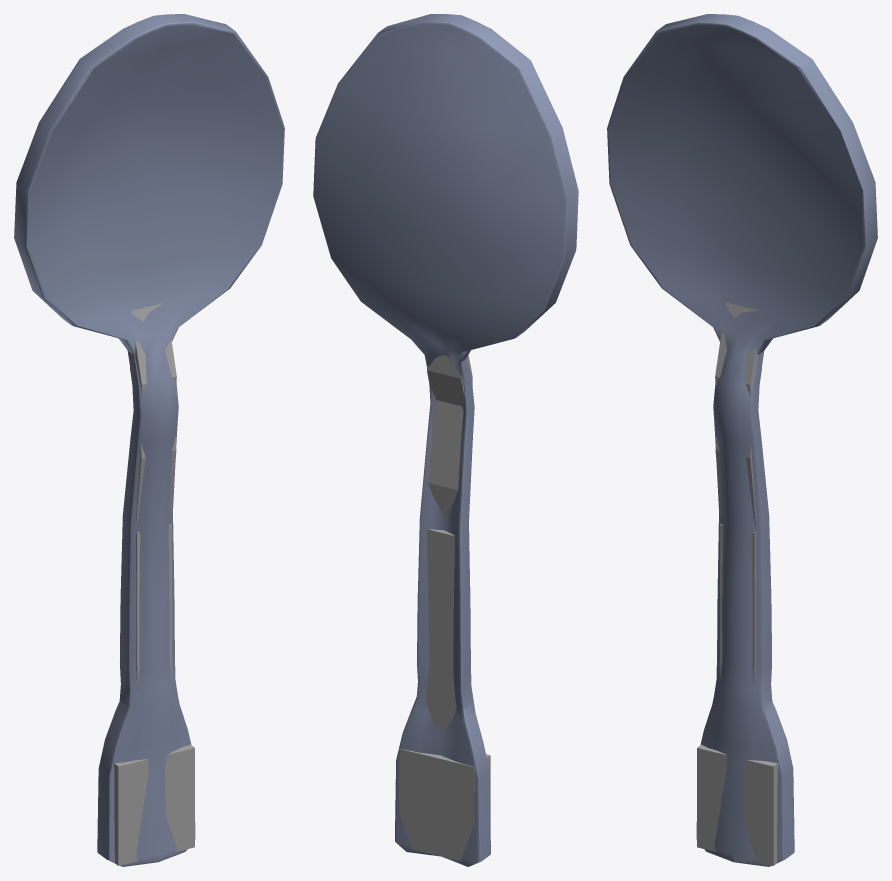
Rendered from spoon.fbx.
3 renders of one model, left to right at view 1: azimuth 30°, elevation 25°; view 2: azimuth 150°, elevation 25°; view 3: azimuth 330°, elevation 25°, orthographic. The views are drawn at different scales.
Visible parts, largest first — view 1: spoonHead, spoonHandle, pCube5, pCube4, pCube2, pCube3; view 2: spoonHead, spoonHandle, pCube5, pCube4, pCube3, pCube2; view 3: spoonHead, spoonHandle, pCube5, pCube4, pCube2, pCube3.
Boxes of the visible parts, x1,y1,x2,y2 form: spoonHead: [14, 14, 284, 339]; spoonHandle: [97, 327, 195, 866]; pCube5: [114, 744, 194, 865]; pCube4: [136, 524, 172, 689]; pCube2: [130, 303, 176, 396]; pCube3: [136, 436, 176, 526]; spoonHead: [313, 14, 578, 352]; spoonHandle: [395, 340, 490, 866]; pCube5: [399, 748, 490, 864]; pCube4: [426, 529, 456, 729]; pCube3: [428, 400, 463, 516]; pCube2: [427, 355, 472, 406]; spoonHead: [607, 14, 877, 339]; spoonHandle: [696, 327, 794, 866]; pCube5: [697, 744, 777, 865]; pCube4: [719, 524, 755, 689]; pCube2: [715, 302, 761, 396]; pCube3: [715, 436, 755, 526].
Size of the model in its own units: 2.29 by 7.16 by 0.5415.
